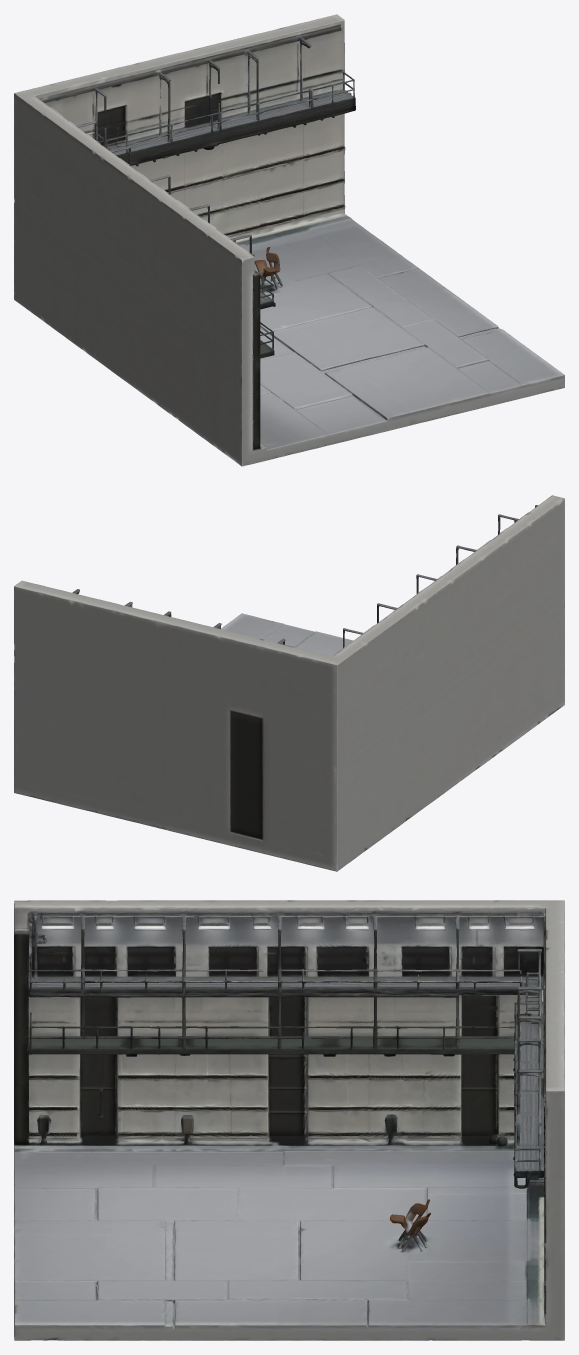
The model's file is tyhi.glb.
3 renders of one model, top to bottom at view 1: azimuth 30°, elevation 25°; view 2: azimuth 150°, elevation 25°; view 3: azimuth 270°, elevation 25°, orthographic. The views are drawn at different scales.
Parts seen in each view (by area): view 1: tripo_node_39a8203a-e4ad-4523-a34a-90b8ea96504e; view 2: tripo_node_39a8203a-e4ad-4523-a34a-90b8ea96504e; view 3: tripo_node_39a8203a-e4ad-4523-a34a-90b8ea96504e.
Boxes of the visible parts, x1,y1,x2,y2 form: tripo_node_39a8203a-e4ad-4523-a34a-90b8ea96504e: (14,14,564,466); tripo_node_39a8203a-e4ad-4523-a34a-90b8ea96504e: (14,495,564,871); tripo_node_39a8203a-e4ad-4523-a34a-90b8ea96504e: (14,900,564,1340).
Size of the model in its own units: 0.8192 by 0.5013 by 1.
Materials: 1 (1 with a texture image).
